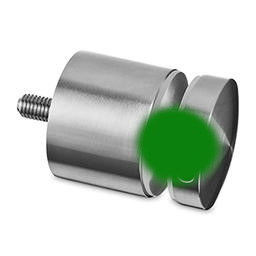focus: (130, 98, 226, 187)
